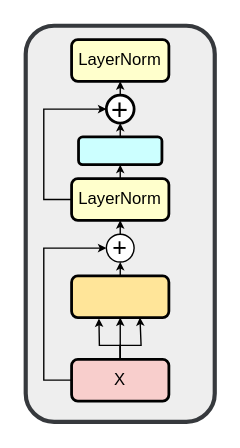
Image size: 240x448. Some labels were removed from this diagram. Here are the shapes that lost their labels. From the top down, the centre of each, then its label:
the point at 119,150: Dense
the point at 120,296: Multi-Head Attention
